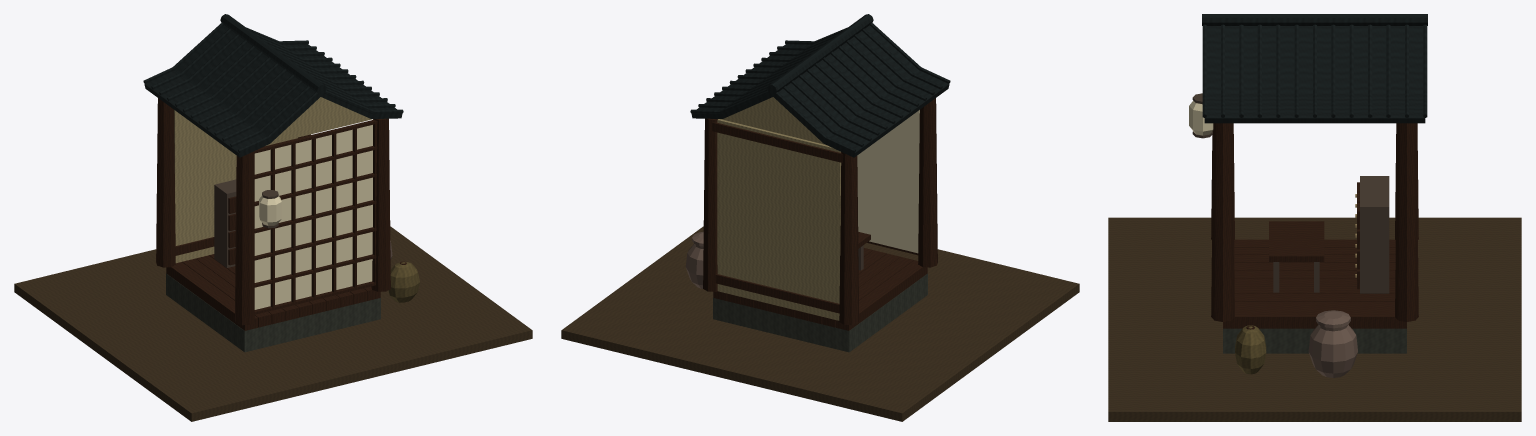
The model's file is scene_medicine_shop.glb.
3 views of the same model, side by side, from view 1: azimuth 30°, elevation 25°; view 2: azimuth 150°, elevation 25°; view 3: azimuth 270°, elevation 25° (orthographic). The views are drawn at different scales.
Visible parts, largest first — view 1: ground, paper.002, giwa_roof.002, plaster.002, stone_plinth.002, timber_post.002, timber_post.003, timber_post.004, shop_gable, floor_plank_00.002, giwa_roof_ridge.002, cabinet.002 (+30 smaller); view 2: ground, plaster.002, giwa_roof.002, paper.002, stone_plinth.002, timber_post.003, timber_post.002, timber_post.005, shop_gable.001, floor_plank_00.002, giwa_roof_ridge.002, top_sill.002 (+17 smaller); view 3: ground, giwa_roof.002, timber_post.004, timber_post.005, cabinet.002, stone_plinth.002, floor_plank_09.002, giwa_roof_ridge.002, table_top.002, onggi_jar.002, floor_plank_08.002, floor_plank_07.002 (+20 smaller).
Part boxes in pixels (<box>): ground: <box>14,226,532,421</box>; paper.002: <box>254,125,372,309</box>; giwa_roof.002: <box>144,25,402,157</box>; plaster.002: <box>174,110,297,263</box>; stone_plinth.002: <box>166,273,380,352</box>; timber_post.002: <box>234,152,254,325</box>; timber_post.003: <box>156,98,175,267</box>; timber_post.004: <box>371,118,390,291</box>; shop_gable: <box>268,97,373,144</box>; floor_plank_00.002: <box>166,262,257,330</box>; giwa_roof_ridge.002: <box>220,14,326,94</box>; cabinet.002: <box>214,179,236,267</box>; ground: <box>561,226,1079,421</box>; plaster.002: <box>717,119,841,320</box>; giwa_roof.002: <box>691,25,949,157</box>; paper.002: <box>857,110,919,253</box>; stone_plinth.002: <box>713,273,927,352</box>; timber_post.003: <box>839,152,859,325</box>; timber_post.002: <box>918,98,937,267</box>; timber_post.005: <box>703,118,717,291</box>; shop_gable.001: <box>720,97,825,144</box>; floor_plank_00.002: <box>836,260,927,330</box>; giwa_roof_ridge.002: <box>767,14,873,94</box>; top_sill.002: <box>712,122,843,162</box>; ground: <box>1108,217,1521,421</box>; giwa_roof.002: <box>1204,26,1425,123</box>; timber_post.004: <box>1211,123,1234,321</box>; timber_post.005: <box>1395,123,1418,321</box>; cabinet.002: <box>1360,176,1389,293</box>; stone_plinth.002: <box>1223,328,1406,353</box>; floor_plank_09.002: <box>1223,309,1406,328</box>; giwa_roof_ridge.002: <box>1202,14,1427,25</box>; table_top.002: <box>1269,221,1324,261</box>; onggi_jar.002: <box>1308,324,1357,377</box>; floor_plank_08.002: <box>1235,301,1394,309</box>; floor_plank_07.002: <box>1234,294,1395,301</box>.
Bounding box in the file's own units: 5 × 3.73 × 4.5.
11 materials, 7 textured.
